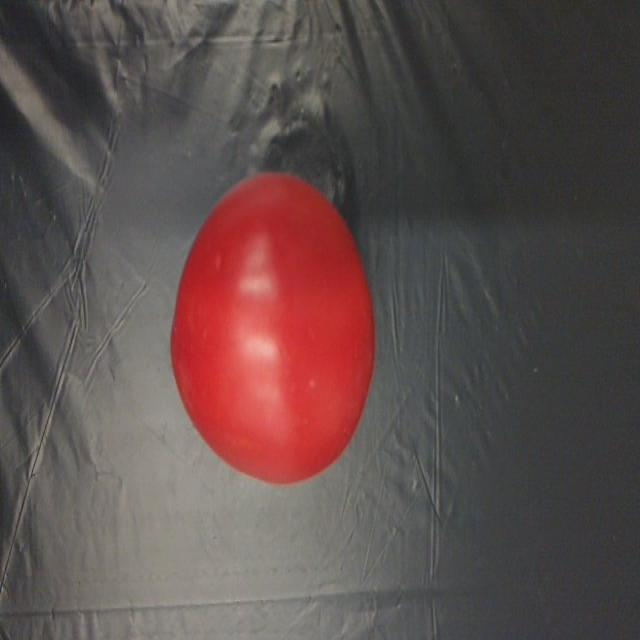kirmizi: (152, 129, 397, 501)
